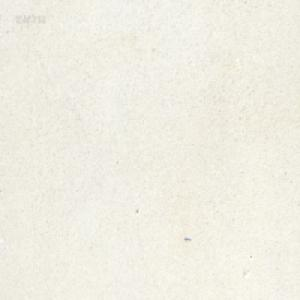Nail: (184, 236, 191, 241)
